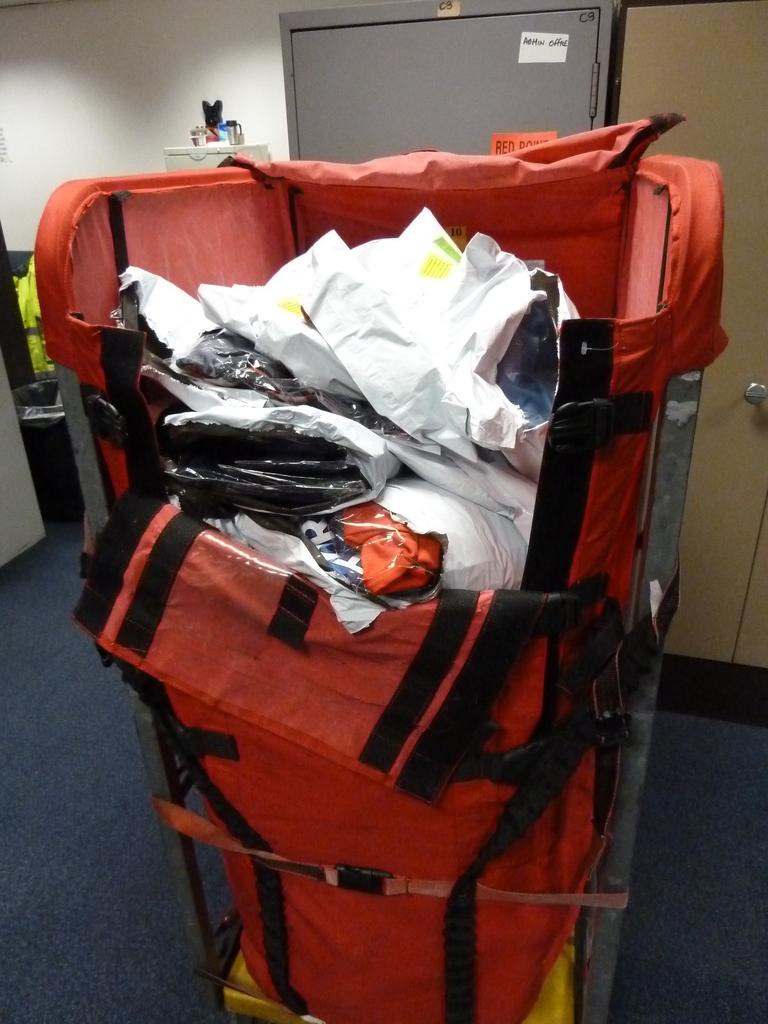Luggage-and-bags: (39, 102, 732, 1023)
